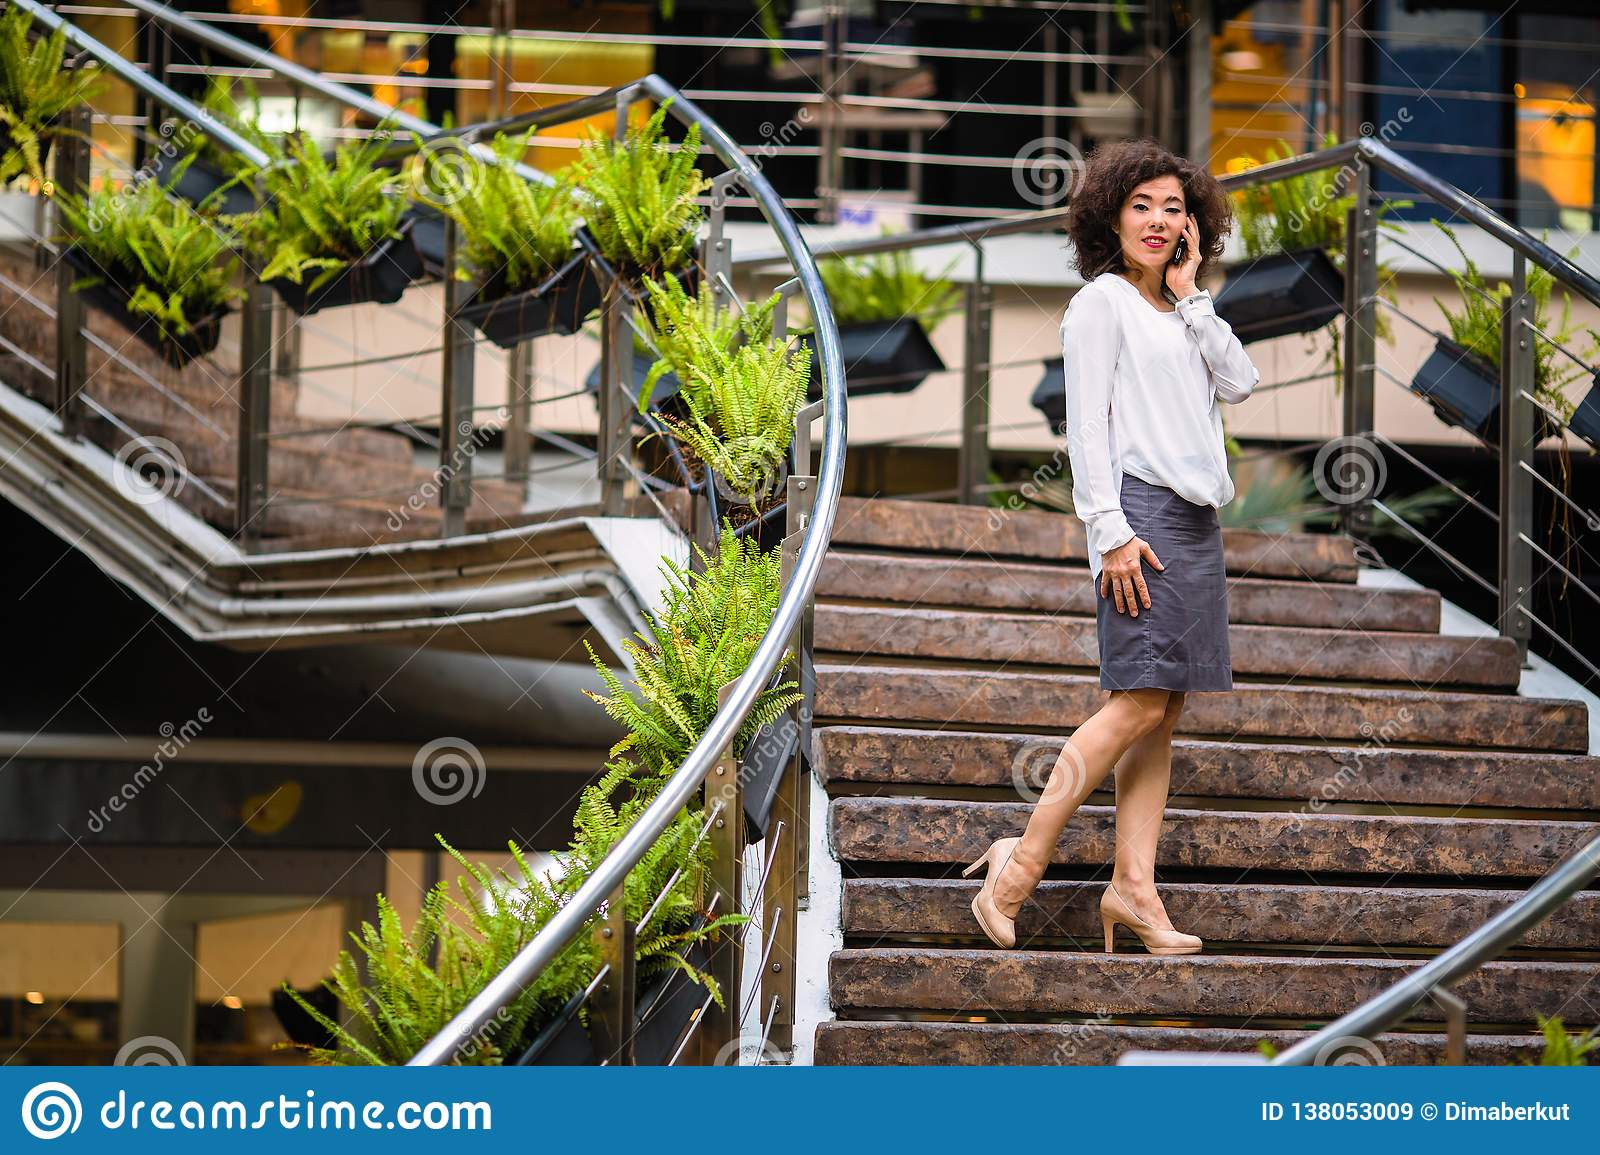phone: (1171, 217, 1198, 271)
talk: (1125, 184, 1206, 289)
